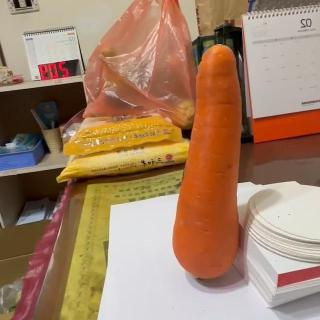carrot: (169, 46, 243, 284)
